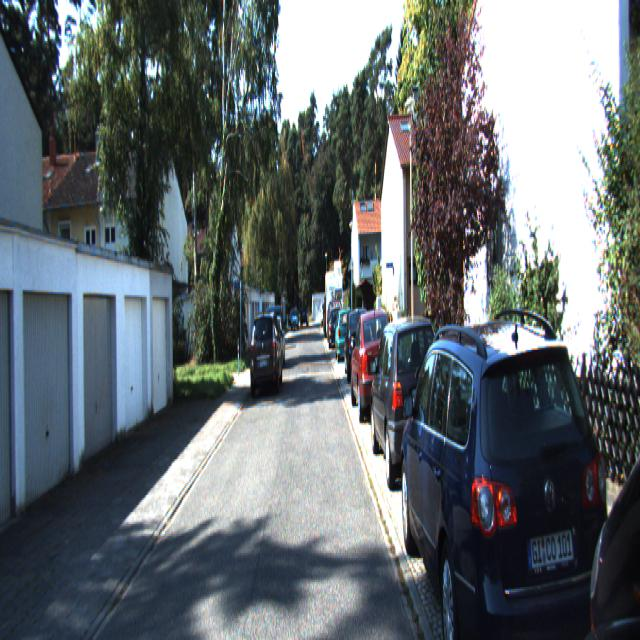Car: (396, 314, 618, 638), (369, 312, 449, 498), (349, 305, 397, 424), (249, 308, 282, 393), (344, 308, 373, 385), (324, 265, 343, 339), (335, 308, 355, 364)
